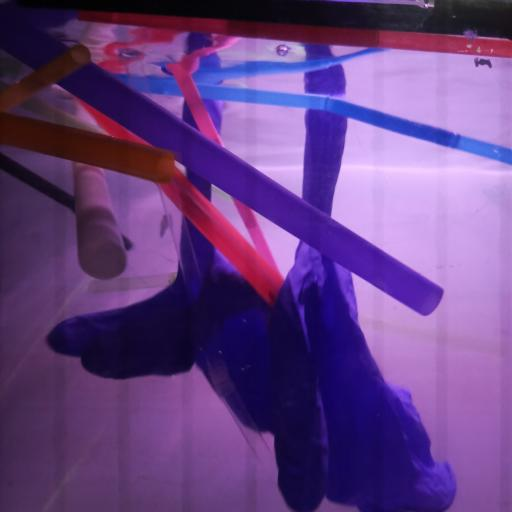glove: (49, 28, 458, 512)
plastic_straw: (0, 1, 445, 318), (73, 94, 286, 308), (112, 72, 512, 167), (158, 184, 272, 464), (168, 64, 283, 281), (75, 10, 512, 59), (1, 150, 134, 254), (0, 111, 177, 185), (72, 95, 131, 283), (0, 44, 92, 115)
